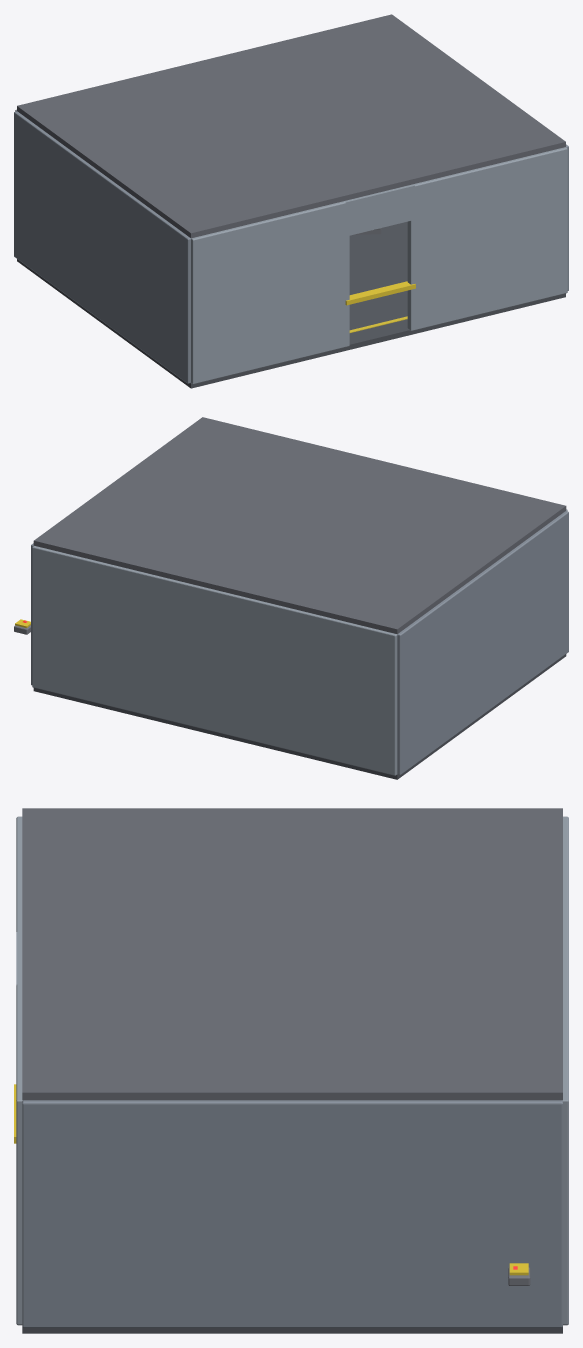
The model's file is DCS_ControlRoom.fbx.
3 renders of one model, top to bottom at view 1: azimuth 30°, elevation 25°; view 2: azimuth 150°, elevation 25°; view 3: azimuth 270°, elevation 25°, orthographic. The views are drawn at different scales.
Visible parts, largest first — view 1: Ceiling, Wall_Left, Wall_Back_R, Wall_Back_L, Floor_Epoxy, Wall_Back_Header, Door_Frame; view 2: Ceiling, Wall_Front, Wall_Left, Floor_Epoxy; view 3: Ceiling, Wall_Right, Floor_Epoxy, Wall_Front, Wall_Back_R, Wall_Back_L.
Boxes of the visible parts, bbox=[...] form: Ceiling: bbox=[17, 14, 565, 238]; Wall_Left: bbox=[14, 111, 190, 383]; Wall_Back_R: bbox=[407, 147, 567, 330]; Wall_Back_L: bbox=[191, 200, 349, 384]; Floor_Epoxy: bbox=[17, 221, 565, 388]; Wall_Back_Header: bbox=[345, 184, 414, 236]; Door_Frame: bbox=[345, 281, 415, 305]; Ceiling: bbox=[33, 417, 566, 634]; Wall_Front: bbox=[32, 545, 397, 775]; Wall_Left: bbox=[397, 511, 568, 774]; Floor_Epoxy: bbox=[33, 654, 566, 779]; Ceiling: bbox=[22, 808, 562, 1100]; Wall_Right: bbox=[22, 1100, 562, 1327]; Floor_Epoxy: bbox=[22, 1327, 562, 1333]; Wall_Front: bbox=[562, 816, 568, 1325]; Wall_Back_R: bbox=[16, 982, 22, 1325]; Wall_Back_L: bbox=[16, 816, 22, 934].
Size of the model in its own units: 1005 by 364 by 759.
